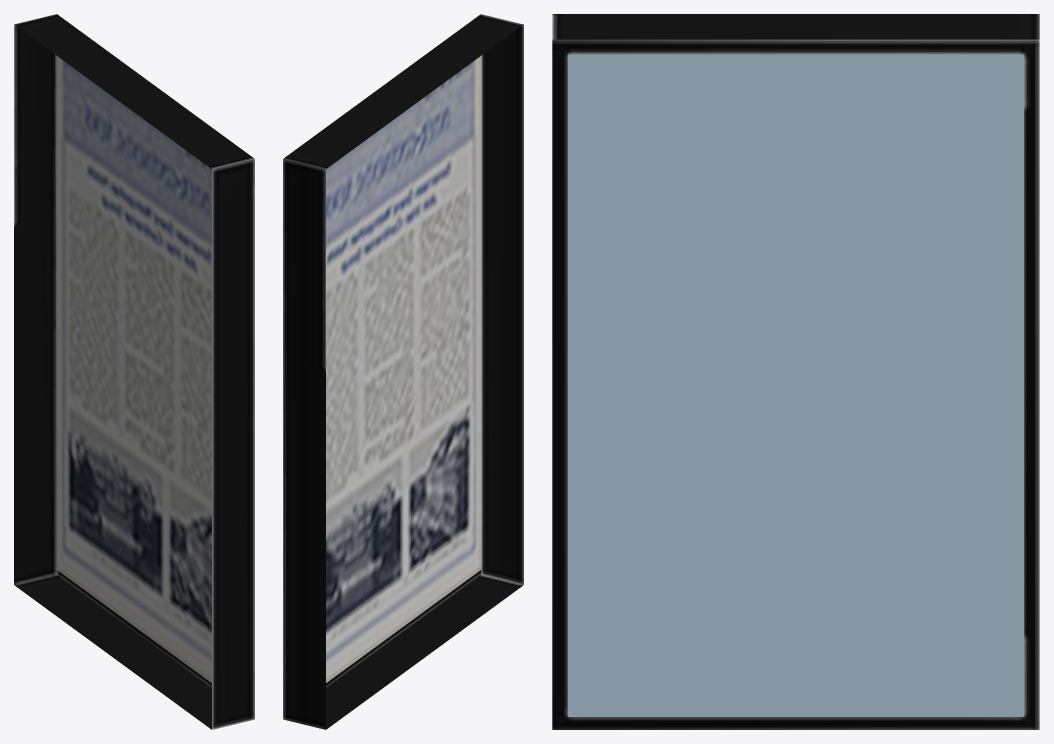
Rendered from CDC_InfoTV.fbx.
3 views of the same model, side by side, from view 1: azimuth 30°, elevation 25°; view 2: azimuth 150°, elevation 25°; view 3: azimuth 270°, elevation 25° (orthographic). The views are drawn at different scales.
Visible parts, largest first — view 1: prop_CDC_Infotv_Info, prop_CDC_Infotv; view 2: prop_CDC_Infotv_Info, prop_CDC_Infotv; view 3: prop_CDC_Infotv_GLASS, prop_CDC_Infotv.
Part boxes in pixels (bbox=[...]): prop_CDC_Infotv_Info: bbox=[56, 55, 211, 682]; prop_CDC_Infotv: bbox=[14, 14, 254, 729]; prop_CDC_Infotv_Info: bbox=[326, 55, 481, 682]; prop_CDC_Infotv: bbox=[283, 14, 523, 729]; prop_CDC_Infotv_GLASS: bbox=[567, 54, 1024, 716]; prop_CDC_Infotv: bbox=[552, 14, 1039, 729].
Size of the model in its own units: 9.5 by 115 by 73.79.
